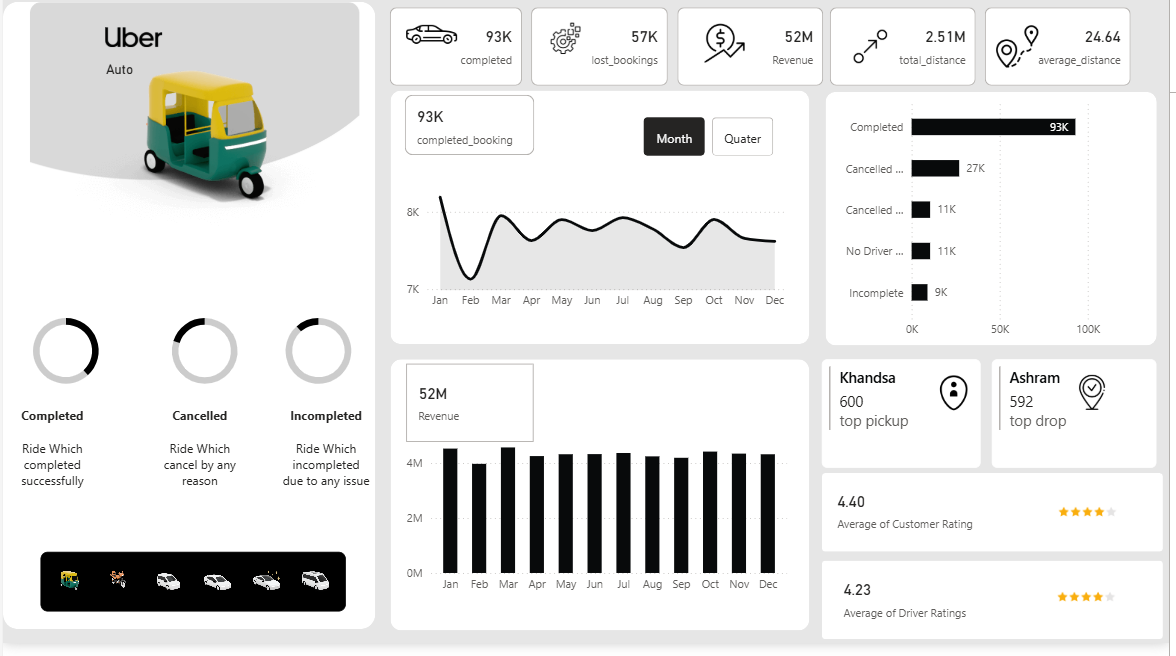

Layout of this report page (visuals, bound fields, positions):
{"tool":"powerbi","page":{"name":"Overview","canvas":[1280,720],"ordinal":1},"visuals":[{"type":"shape","box":[0,15,408.8,688.8],"z":2000},{"type":"image","box":[0,11.2,420,348.8],"z":3000},{"type":"image","box":[85.1,38.4,116.6,31.6],"z":4000},{"type":"cardVisual","fields":{"Data":["_Measures.completed_booking"]},"box":[419.9,16.5,155.1,96.1],"z":5000},{"type":"cardVisual","fields":{"Data":["_Measures.lost_bookings"]},"box":[575,16.5,160.5,96.1],"z":6000},{"type":"cardVisual","fields":{"Data":["_Measures.booking_values"]},"box":[735.5,16.5,170.2,96.1],"z":7000},{"type":"shape","box":[425.4,112.5,459.7,278.6],"z":8000},{"type":"shape","box":[425.4,407.5,459.7,297.8],"z":9000},{"type":"cardVisual","fields":{"Data":["_Measures.total_distance"]},"box":[902.9,16.5,170.2,96.1],"z":10000},{"type":"cardVisual","fields":{"Data":["_Measures.average_distance"]},"box":[1073.1,16.5,170.2,96.1],"z":11000},{"type":"advancedSlicerVisual","fields":{"Values":["IMG.Vehicle Type"]},"box":[41.2,618.9,334.8,65.9],"z":12000},{"type":"cardVisual","fields":{"Data":["Min(IMG.Vehicle Type)"]},"box":[96.1,38.4,130.4,94.7],"z":13000},{"type":"cardVisual","fields":{"Data":["Min(IMG.Img)"]},"box":[54.9,0,341.7,314.2],"z":14000},{"type":"areaChart","fields":{"Category":["Calendar.Month"],"Y":["_Measures.completed_booking"]},"box":[437.7,189.4,428.1,171.5],"z":15000},{"type":"clusteredColumnChart","fields":{"Category":["Calendar.Month"],"Y":["_Measures.booking_values"]},"box":[437.7,477.5,428.1,194.9],"z":16000},{"type":"advancedSlicerVisual","fields":{"Values":["Date axis.Date axis"]},"box":[698.5,137.2,152.3,52.1],"z":17000},{"type":"cardVisual","fields":{"Data":["_Measures.completed_booking"]},"box":[436.4,112.5,152.3,76.8],"z":18000},{"type":"cardVisual","fields":{"Data":["_Measures.booking_values"]},"box":[437.7,407.5,150.9,96.1],"z":19000},{"type":"shape","box":[902.9,113.9,363.6,278.6],"z":20000},{"type":"clusteredBarChart","fields":{"Category":["Uber.Booking Status"],"Y":["CountNonNull(Uber.Vehicle Type)"]},"box":[905.7,112.5,317,279.9],"z":21000},{"type":"multiRowCard","fields":{"Values":["Uber.Pickup Location","_Measures.completed_booking"]},"box":[898.8,407.5,174.3,119.4],"z":22000},{"type":"multiRowCard","fields":{"Values":["Uber.Drop Location","_Measures.completed_booking"]},"box":[1085.4,407.5,181.1,119.4],"z":23000},{"type":"image","box":[1001.7,414.4,83.7,60.4],"z":24000},{"type":"image","box":[1169.1,419.9,53.5,48],"z":25000},{"type":"image","box":[929,32.9,46.7,61.7],"z":26000},{"type":"image","box":[1085.4,32.9,56.3,61.7],"z":27000},{"type":"image","box":[595.5,26.1,43.9,57.6],"z":28000},{"type":"image","box":[437.7,16.5,65.9,68.6],"z":29000},{"type":"image","box":[763,32.9,57.6,53.5],"z":30000},{"type":"shape","box":[898.8,532.4,374.6,86.4],"z":31000},{"type":"shape","box":[898.8,628.5,374.6,86.4],"z":32000},{"type":"cardVisual","fields":{"Data":["Avg(Uber.Customer Rating)"]},"box":[898.8,526.9,188,96.1],"z":33000},{"type":"cardVisual","fields":{"Data":["Avg(Uber.Driver Ratings)"]},"box":[905.7,624.4,205.8,96.1],"z":34000},{"type":"image","box":[1112.9,537.9,155.1,74.1],"z":35000},{"type":"image","box":[1111.5,631.2,155.1,74.1],"z":36000},{"type":"donutChart","fields":{"Y":["_Measures.booking_count","_Measures.booking_remove_status_filter"]},"box":[18.9,349.1,100,100],"z":37000},{"type":"donutChart","fields":{"Y":["_Measures.booking_remove_status_filter","_Measures.booking_count"]},"box":[171.5,348.5,100.2,100.2],"z":38000},{"type":"donutChart","fields":{"Y":["_Measures.booking_remove_status_filter","_Measures.booking_count"]},"box":[296.4,348.5,100.2,100.2],"z":39000},{"type":"textbox","box":[0,455.6,108.4,101.5],"z":40000},{"type":"textbox","box":[161.9,455.6,108.4,101.5],"z":41000},{"type":"textbox","box":[300.5,455.6,108.4,101.5],"z":42000}]}

Visuals, with their boxes in screenshot pixels (x1, y1, x2, y2), scaled from the page's 1280x720 canvas onto the 1176x656 screenshot:
shape: <bbox>0, 14, 376, 641</bbox>
image: <bbox>0, 10, 386, 328</bbox>
image: <bbox>78, 35, 185, 64</bbox>
cardVisual - _Measures.completed_booking: <bbox>386, 15, 528, 103</bbox>
cardVisual - _Measures.lost_bookings: <bbox>528, 15, 676, 103</bbox>
cardVisual - _Measures.booking_values: <bbox>676, 15, 832, 103</bbox>
shape: <bbox>391, 102, 813, 356</bbox>
shape: <bbox>391, 371, 813, 643</bbox>
cardVisual - _Measures.total_distance: <bbox>830, 15, 986, 103</bbox>
cardVisual - _Measures.average_distance: <bbox>986, 15, 1142, 103</bbox>
advancedSlicerVisual - IMG.Vehicle Type: <bbox>38, 564, 345, 624</bbox>
cardVisual - Min(IMG.Vehicle Type): <bbox>88, 35, 208, 121</bbox>
cardVisual - Min(IMG.Img): <bbox>50, 0, 364, 286</bbox>
areaChart - Calendar.Month x _Measures.completed_booking: <bbox>402, 173, 795, 329</bbox>
clusteredColumnChart - Calendar.Month x _Measures.booking_values: <bbox>402, 435, 795, 613</bbox>
advancedSlicerVisual - Date axis.Date axis: <bbox>642, 125, 782, 172</bbox>
cardVisual - _Measures.completed_booking: <bbox>401, 102, 541, 172</bbox>
cardVisual - _Measures.booking_values: <bbox>402, 371, 541, 459</bbox>
shape: <bbox>830, 104, 1164, 358</bbox>
clusteredBarChart - Uber.Booking Status x CountNonNull(Uber.Vehicle Type): <bbox>832, 102, 1123, 358</bbox>
multiRowCard - Uber.Pickup Location x _Measures.completed_booking: <bbox>826, 371, 986, 480</bbox>
multiRowCard - Uber.Drop Location x _Measures.completed_booking: <bbox>997, 371, 1164, 480</bbox>
image: <bbox>920, 378, 997, 433</bbox>
image: <bbox>1074, 383, 1123, 426</bbox>
image: <bbox>854, 30, 896, 86</bbox>
image: <bbox>997, 30, 1049, 86</bbox>
image: <bbox>547, 24, 587, 76</bbox>
image: <bbox>402, 15, 463, 78</bbox>
image: <bbox>701, 30, 754, 79</bbox>
shape: <bbox>826, 485, 1170, 564</bbox>
shape: <bbox>826, 573, 1170, 651</bbox>
cardVisual - Avg(Uber.Customer Rating): <bbox>826, 480, 998, 568</bbox>
cardVisual - Avg(Uber.Driver Ratings): <bbox>832, 569, 1021, 655</bbox>
image: <bbox>1022, 490, 1165, 558</bbox>
image: <bbox>1021, 575, 1164, 643</bbox>
donutChart - _Measures.booking_count x _Measures.booking_remove_status_filter: <bbox>17, 318, 109, 409</bbox>
donutChart - _Measures.booking_remove_status_filter x _Measures.booking_count: <bbox>158, 318, 250, 409</bbox>
donutChart - _Measures.booking_remove_status_filter x _Measures.booking_count: <bbox>272, 318, 364, 409</bbox>
textbox: <bbox>0, 415, 100, 508</bbox>
textbox: <bbox>149, 415, 248, 508</bbox>
textbox: <bbox>276, 415, 376, 508</bbox>
